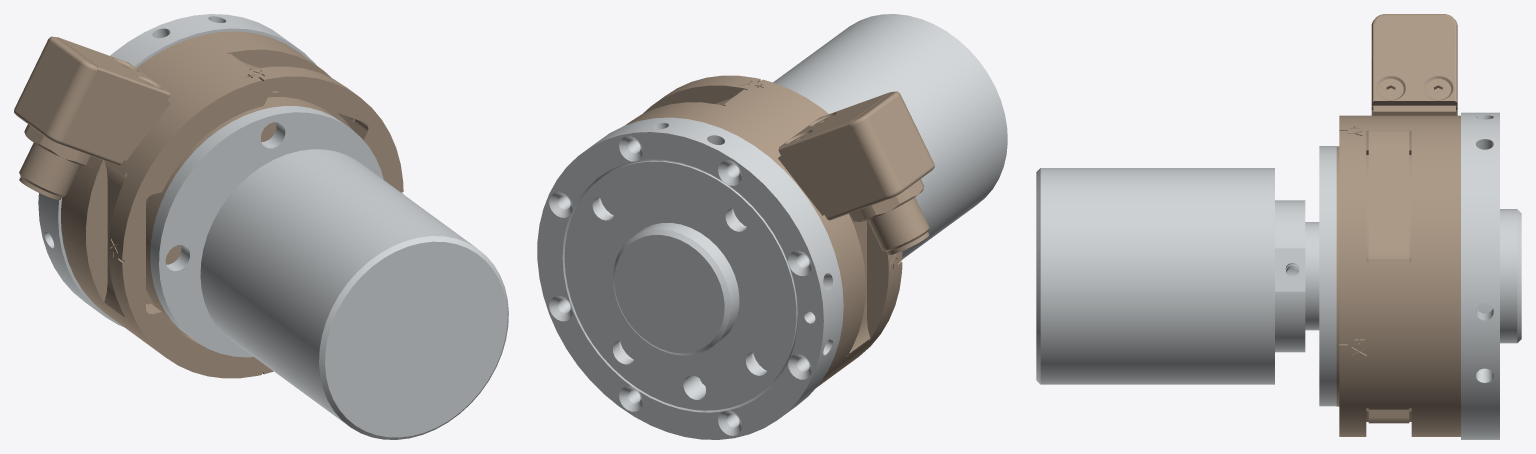
Rendered from assy_FT_peg_mount.obj.
3 views of the same model, side by side, from view 1: azimuth 30°, elevation 25°; view 2: azimuth 150°, elevation 25°; view 3: azimuth 270°, elevation 25° (orthographic).
Parts seen in each view (by area): view 1: mesh 1 03_Plug_Cylinder-1, mesh 2 02_Mount_Plug_FT-1; view 2: mesh 1 03_Plug_Cylinder-1, mesh 2 02_Mount_Plug_FT-1; view 3: mesh 1 03_Plug_Cylinder-1, mesh 2 02_Mount_Plug_FT-1.
Boxes of the visible parts, x1=… form: mesh 1 03_Plug_Cylinder-1: x1=38, y1=14, x2=508, y2=439; mesh 2 02_Mount_Plug_FT-1: x1=14, y1=31, x2=403, y2=378; mesh 1 03_Plug_Cylinder-1: x1=537, y1=14, x2=1007, y2=439; mesh 2 02_Mount_Plug_FT-1: x1=625, y1=75, x2=934, y2=387; mesh 1 03_Plug_Cylinder-1: x1=1036, y1=112, x2=1521, y2=439; mesh 2 02_Mount_Plug_FT-1: x1=1336, y1=14, x2=1460, y2=436.
Size of the model in its own units: 0.0909 by 0.085 by 0.1118.
